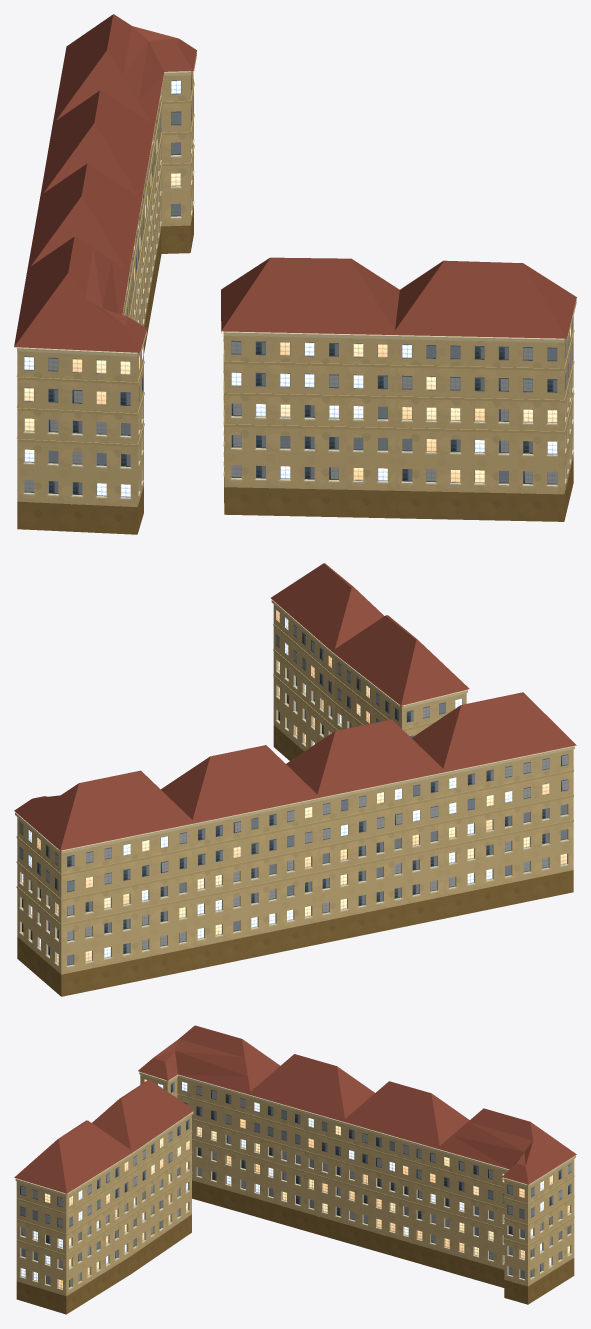
File: z3R2_eris_w.glb
3 views of the same model, one above another, from view 1: azimuth 30°, elevation 25°; view 2: azimuth 150°, elevation 25°; view 3: azimuth 270°, elevation 25° (orthographic). The views are drawn at different scales.
Parts seen in each view (by area): view 1: z3R2_eris_w; view 2: z3R2_eris_w; view 3: z3R2_eris_w.
Boxes of the visible parts, x1=… form: z3R2_eris_w: x1=14, y1=14, x2=576, y2=534; z3R2_eris_w: x1=14, y1=563, x2=576, y2=996; z3R2_eris_w: x1=14, y1=1025, x2=576, y2=1314.
Bounding box in the file's own units: 53.72 × 25.93 × 83.95.
3 materials, 3 textured.
